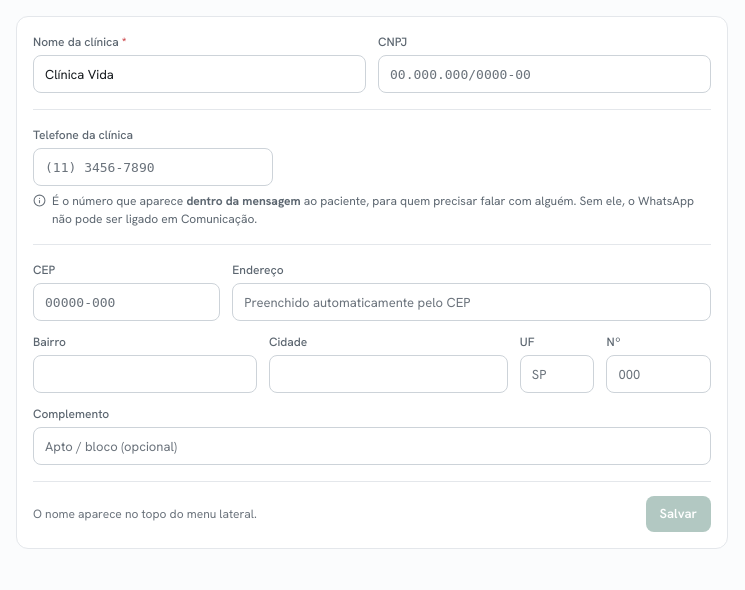
Test: Clínica — edição (owner/admin) › CNPJ inválido: mostra "CNPJ inválido." e mantém o Salvar desabilitado
This screenshot has width=745, height=590.
Type "12ABC34501DE34" into the field labelled "CNPJ".
click(544, 74); type("12ABC34501DE34")  # box [378, 55, 711, 93]
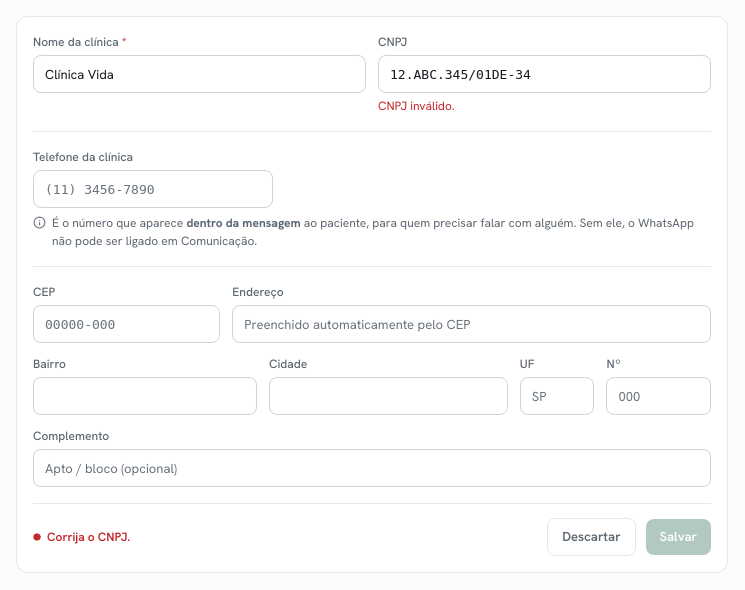
Check: the button "Salvar" is disabled, box [646, 519, 711, 554]
Check: the text "CNPJ inválido." is shown, box [378, 98, 455, 114]
